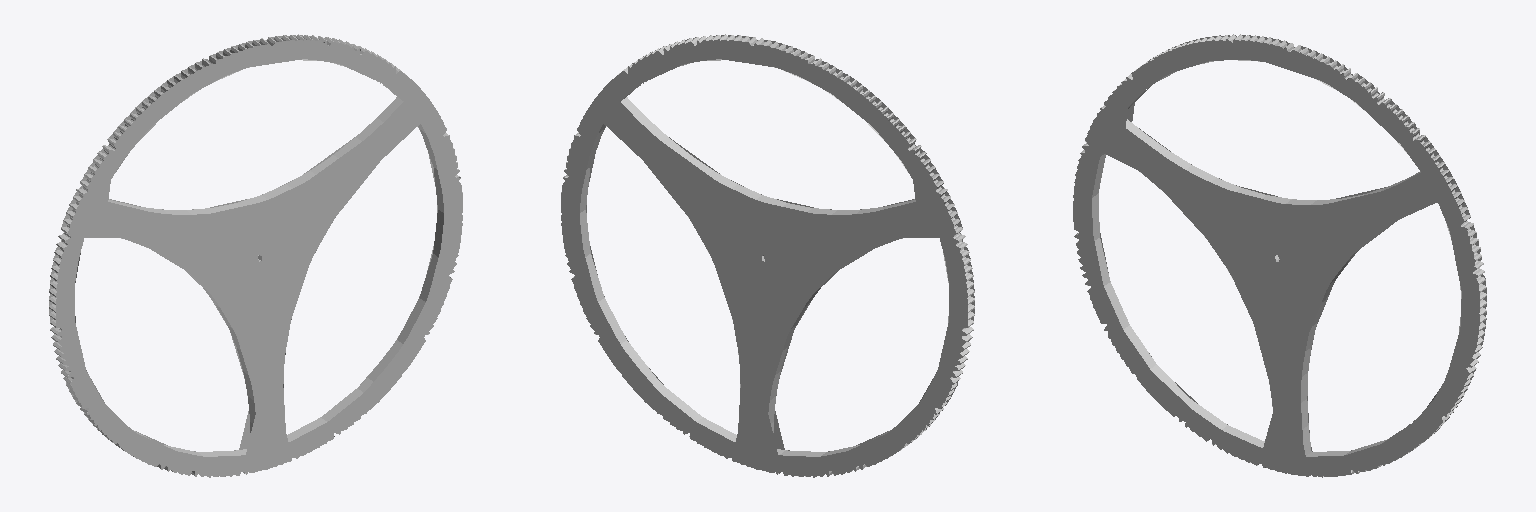
The model's file is oneseventythree.obj.
The picture shows the model from 3 angles: view 1: azimuth 30°, elevation 25°; view 2: azimuth 150°, elevation 25°; view 3: azimuth 330°, elevation 25°; orthographic projection.
Bounding box in the file's own units: 0.3951 × 0.3951 × 0.0113.